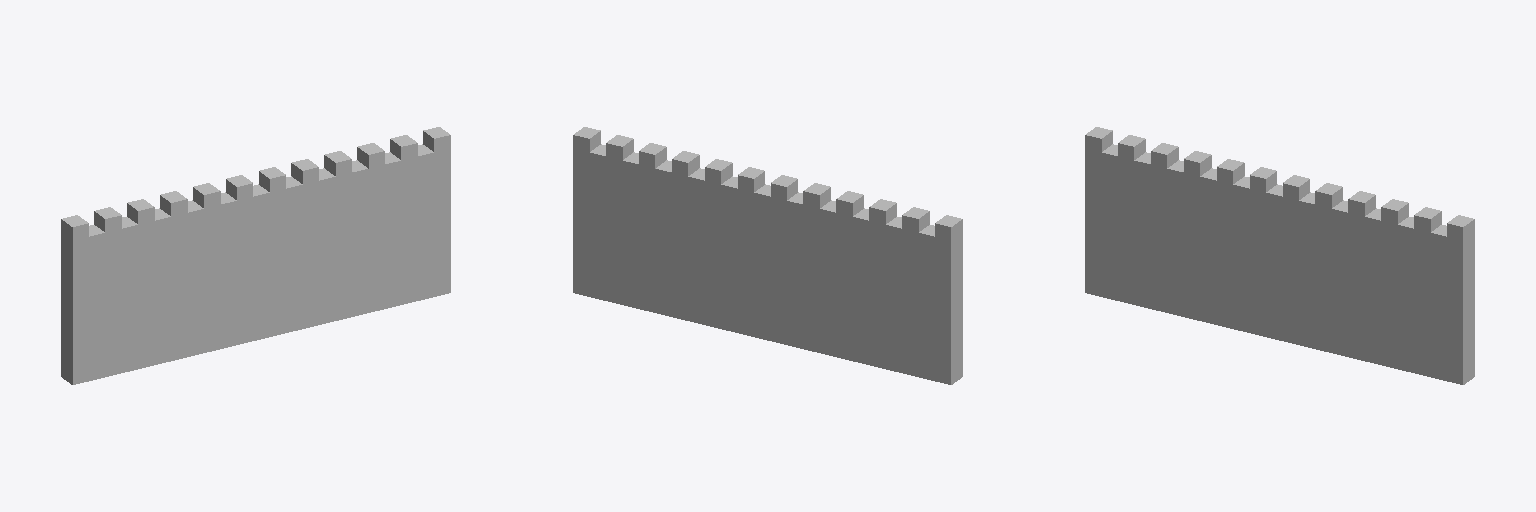
Rendered from wall2.obj.
3 views of the same model, side by side, from view 1: azimuth 30°, elevation 25°; view 2: azimuth 150°, elevation 25°; view 3: azimuth 330°, elevation 25° (orthographic).
Visible parts, largest first — view 1: pCube3; view 2: pCube3; view 3: pCube3.
Boxes of the visible parts, x1=… form: pCube3: x1=61, y1=127, x2=450, y2=384; pCube3: x1=573, y1=127, x2=962, y2=384; pCube3: x1=1085, y1=127, x2=1474, y2=384.
Size of the model in its own units: 19.17 by 7.66 by 1.